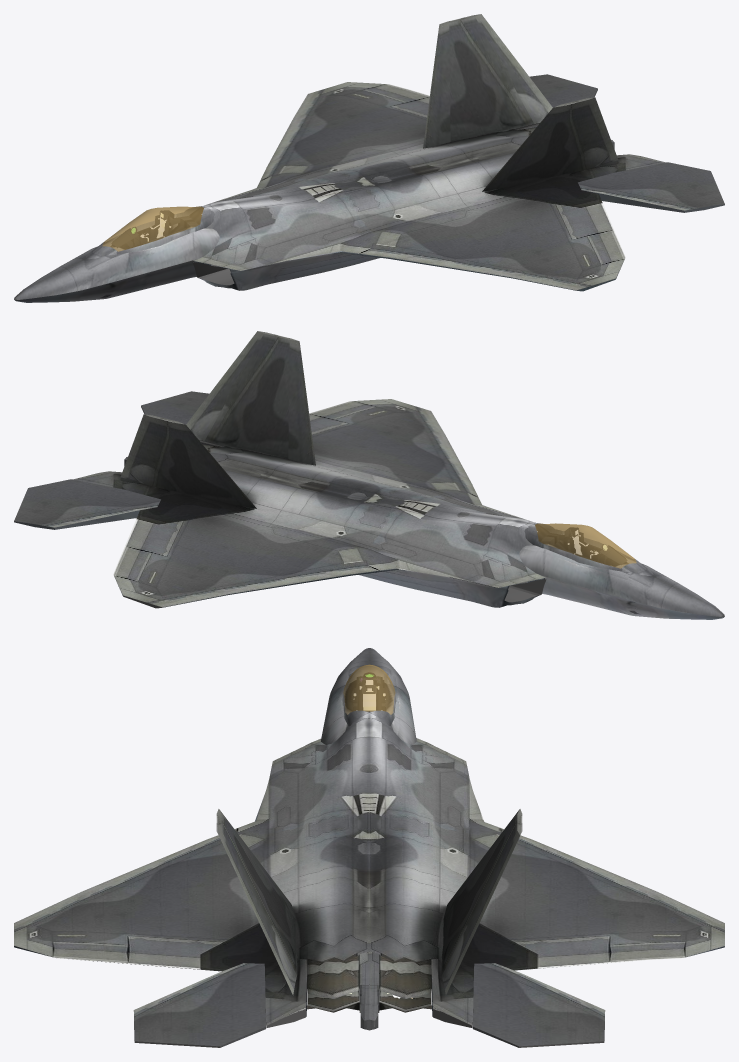
3 renders of one model, top to bottom at view 1: azimuth 30°, elevation 25°; view 2: azimuth 150°, elevation 25°; view 3: azimuth 270°, elevation 25°, orthographic. The views are drawn at different scales.
Parts seen in each view (by area): view 1: f22_2; view 2: f22_2; view 3: f22_2.
Boxes of the visible parts, x1,y1,x2,y2 form: f22_2: [14, 14, 724, 302]; f22_2: [14, 331, 724, 619]; f22_2: [14, 648, 724, 1047].
Size of the model in its own units: 12.11 by 2.59 by 8.79.
Materials: 18 (8 with a texture image).
